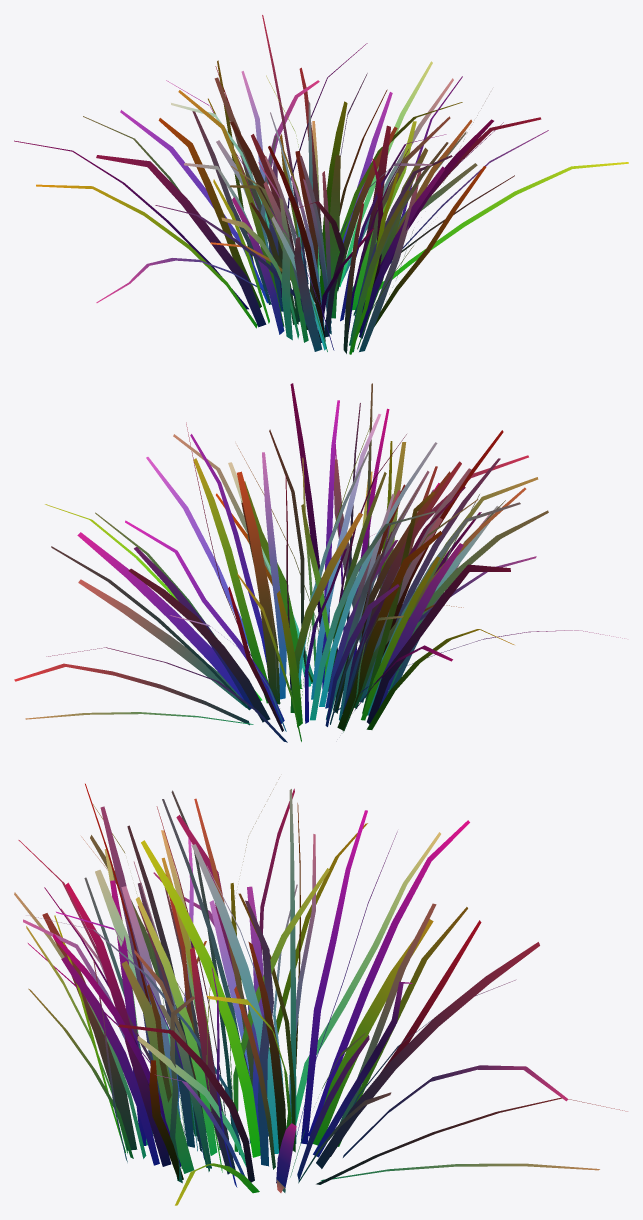
Rendered from Wild_Grass_vlkhcbxia_High_vlkhcbxia_VarG_LOD1.fbx.
3 views of the same model, one above another, from view 1: azimuth 30°, elevation 25°; view 2: azimuth 150°, elevation 25°; view 3: azimuth 270°, elevation 25° (orthographic). The views are drawn at different scales.
Visible parts, largest first — view 1: _kt26_VarG_LOD2; view 2: _kt26_VarG_LOD2; view 3: _kt26_VarG_LOD2.
Boxes of the visible parts, box(x1,y1,x2,y2) form: _kt26_VarG_LOD2: box(14, 15, 628, 354); _kt26_VarG_LOD2: box(14, 383, 624, 742); _kt26_VarG_LOD2: box(14, 777, 627, 1205).
Size of the model in its own units: 25.38 by 11.2 by 19.67.
